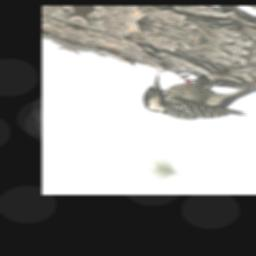Woodpecker: (140, 58, 256, 137)
